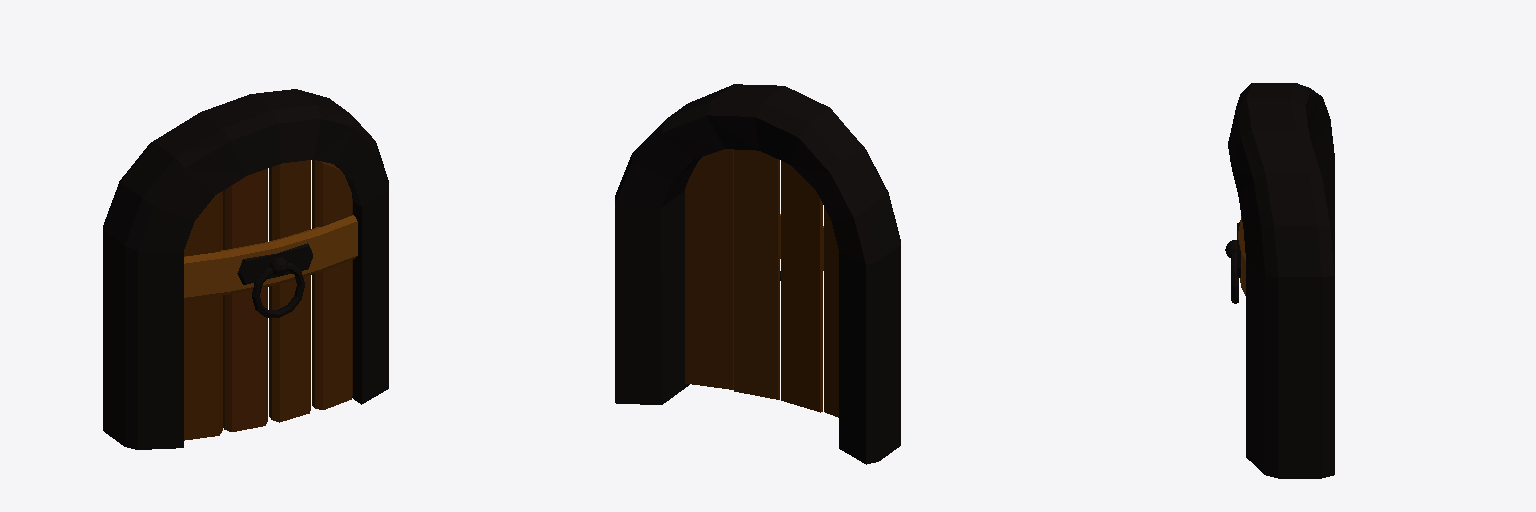
The model's file is Door.obj.
3 renders of one model, left to right at view 1: azimuth 30°, elevation 25°; view 2: azimuth 150°, elevation 25°; view 3: azimuth 270°, elevation 25°, orthographic.
Visible parts, largest first — view 1: Door_Frame_Cube.014, Door_Cylinder.014; view 2: Door_Frame_Cube.014, Door_Cylinder.014; view 3: Door_Frame_Cube.014, Door_Cylinder.014.
Part boxes in pixels (x1,y1,x2,y2): Door_Frame_Cube.014: (103, 89, 388, 449); Door_Cylinder.014: (184, 160, 357, 440); Door_Frame_Cube.014: (615, 84, 900, 464); Door_Cylinder.014: (685, 149, 838, 417); Door_Frame_Cube.014: (1228, 83, 1334, 478); Door_Cylinder.014: (1225, 216, 1245, 303).
Bounding box in the file's own units: 3.71 × 4.24 × 1.33.